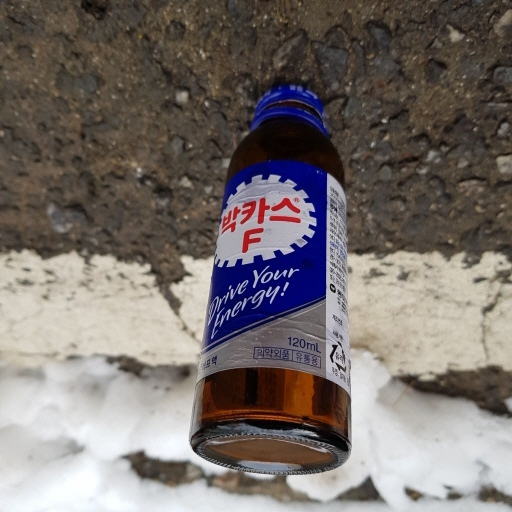Glass_3: (185, 83, 358, 481)
